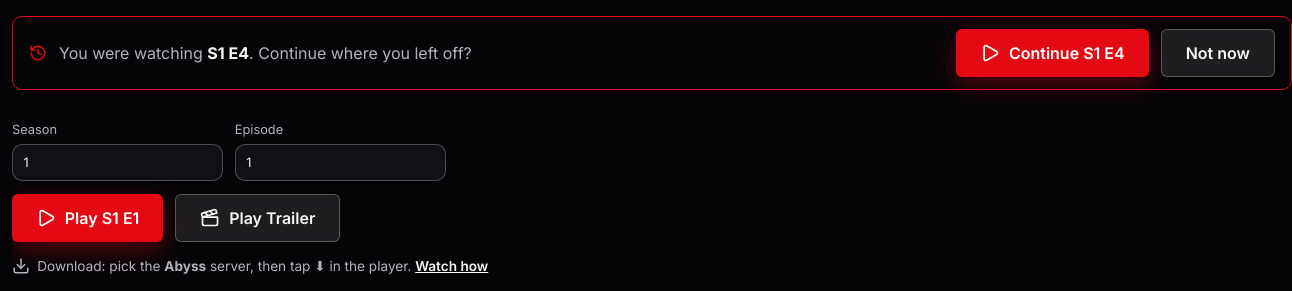
Test: PlayerPanel › lets the viewer dismiss the continue prompt, and ignores movies and unplayable episodes
Step 1. Click the button "Not now" → (1218, 53), box [1161,29,1275,77]
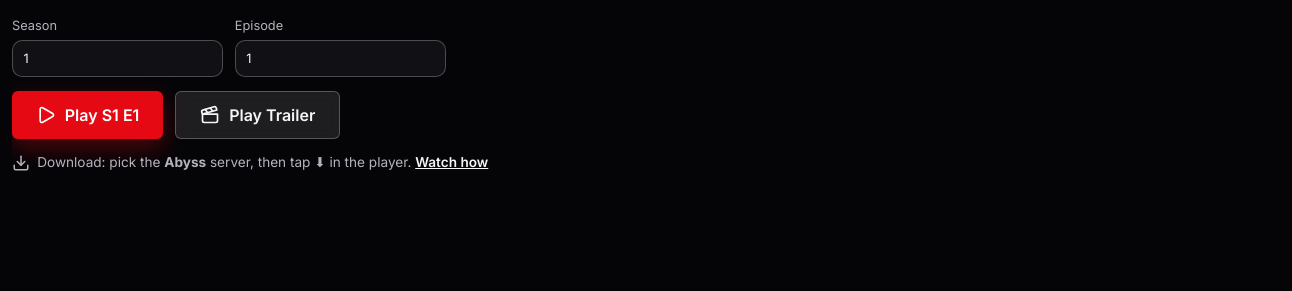
Expected: the text "You were watching" is gone
Step 2. Click the button "Play S1 E1" → (88, 115), box [12,91,163,139]
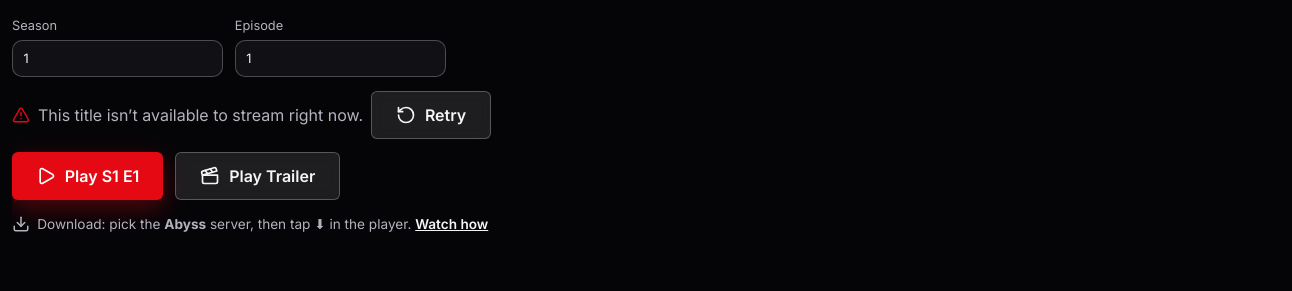
Expected: the message "This title isn’t available to stream right now. Retry" is shown, [12,91,491,139]
